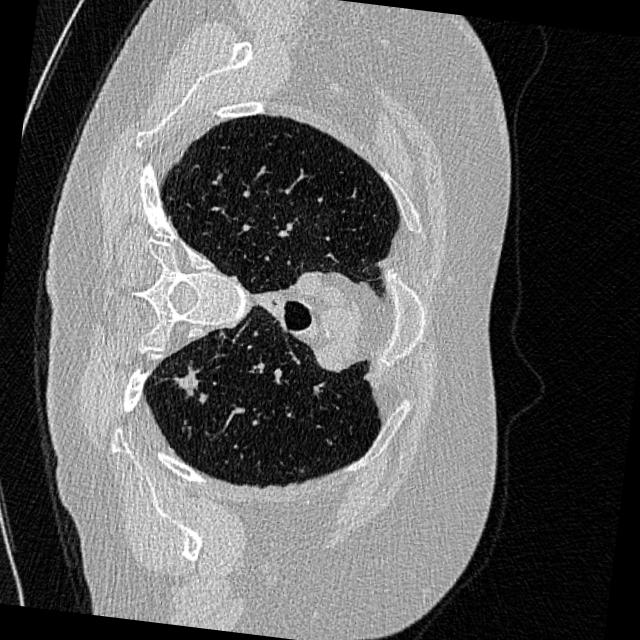nodule: (160, 354, 216, 410)
